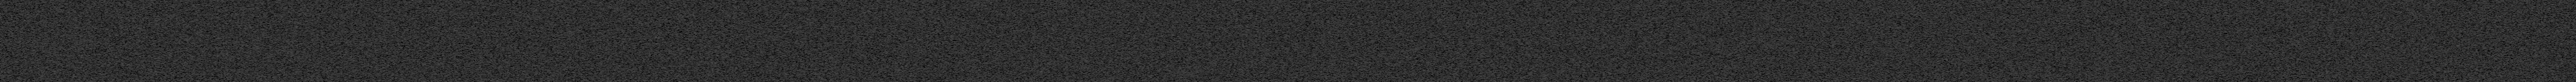wv_cw: (1009, 0, 1012, 82), (1038, 0, 1042, 82), (1321, 0, 1324, 82), (1382, 0, 1385, 82)
wv_lsb: (1423, 25, 1424, 71), (1423, 11, 1424, 25), (1423, 2, 1424, 10), (1423, 75, 1424, 82), (1423, 72, 1424, 74)
wv_usb: (1815, 0, 1819, 82), (1341, 26, 1344, 82), (1341, 0, 1344, 25), (1689, 8, 1694, 15), (1690, 33, 1692, 38)
wv_wbfm: (1168, 0, 1194, 82)
